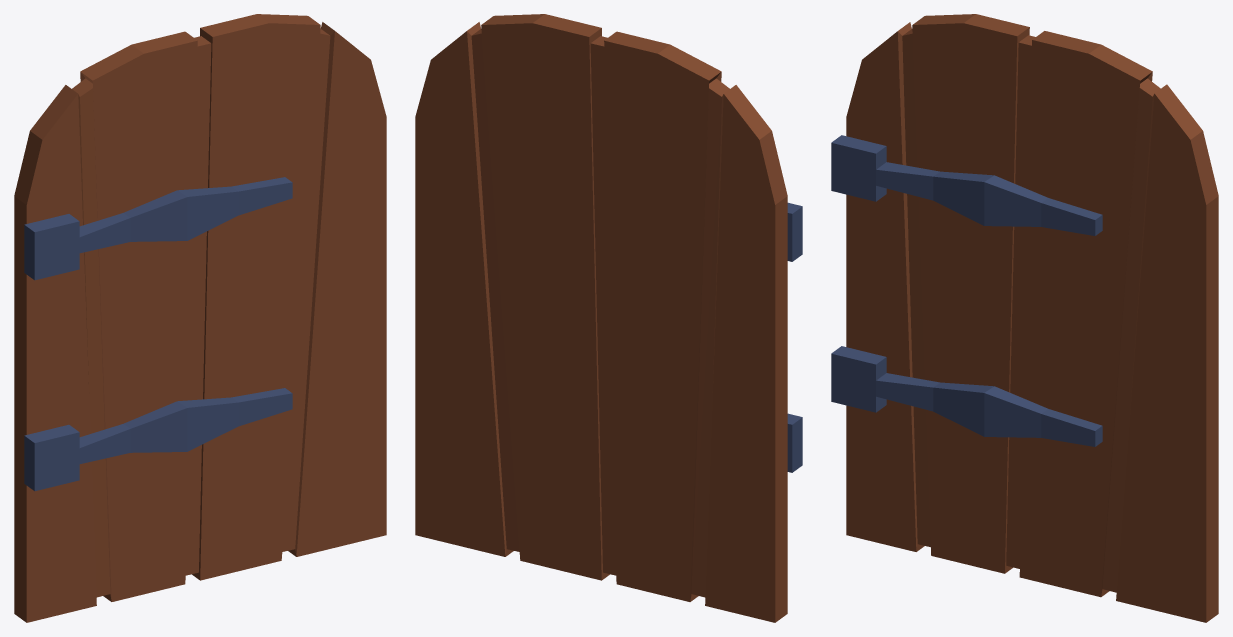
Rendered from Door_only.fbx.
The picture shows the model from 3 angles, left to right: view 1: azimuth 30°, elevation 25°; view 2: azimuth 150°, elevation 25°; view 3: azimuth 330°, elevation 25°; orthographic projection.
Visible parts, largest first — view 1: Door.001; view 2: Door.001; view 3: Door.001.
Boxes of the visible parts, x1=… form: Door.001: x1=14, y1=14, x2=386, y2=622; Door.001: x1=415, y1=14, x2=802, y2=622; Door.001: x1=831, y1=14, x2=1218, y2=622.
Bounding box in the file's own units: 203 × 289 × 23.31.
